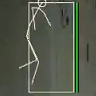hacks_1: (19, 1, 80, 94)
